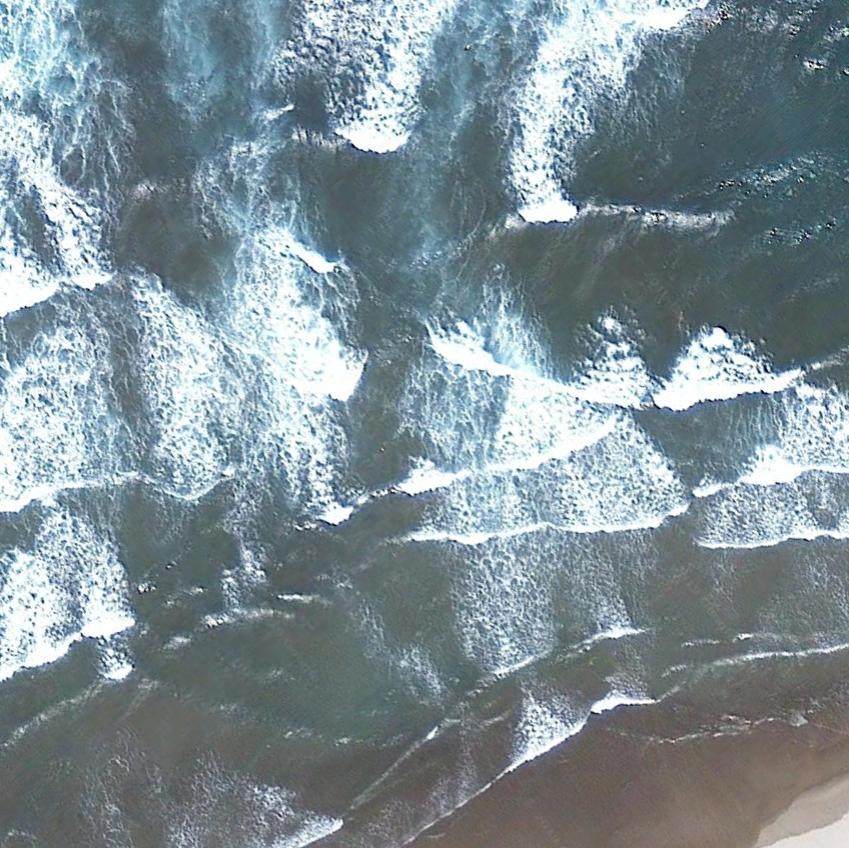rip_current: (305, 220, 499, 720)
